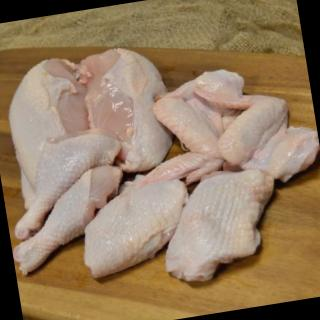Ayam: (1, 17, 320, 314)
